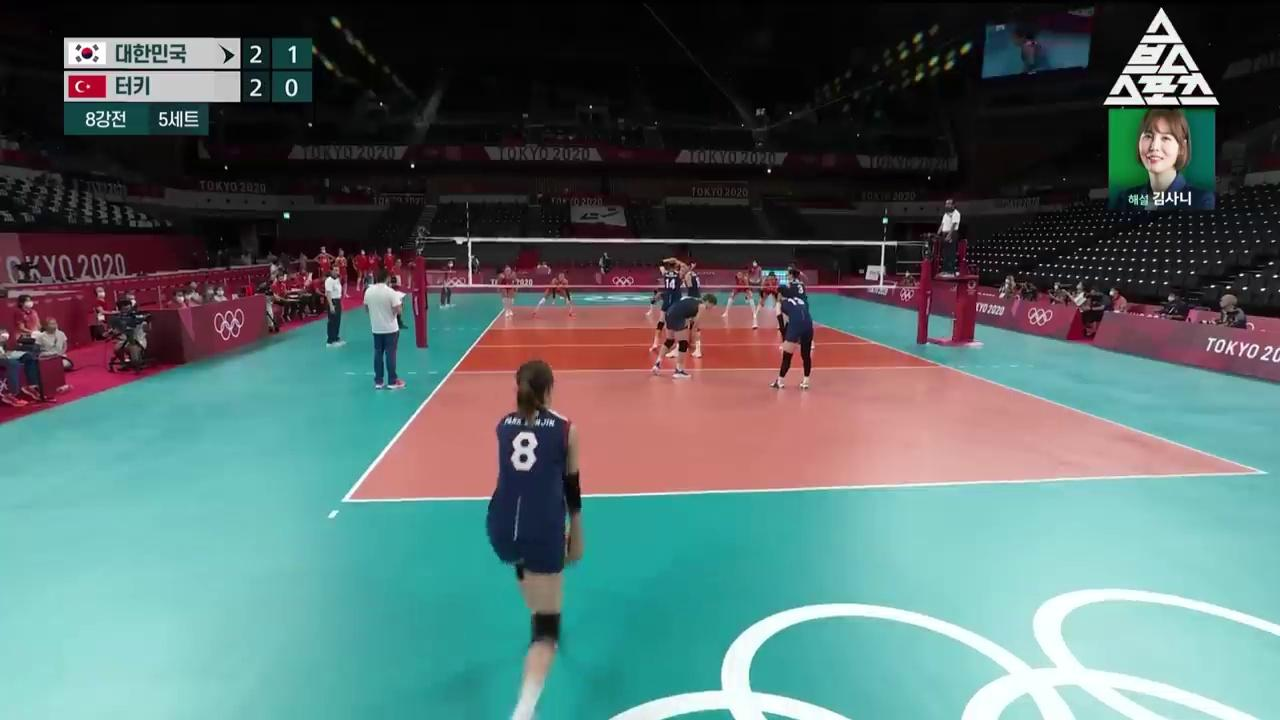player: (487, 361, 583, 720), (652, 294, 716, 378), (769, 286, 814, 389), (649, 258, 689, 351), (666, 262, 702, 357), (533, 272, 575, 319), (753, 272, 784, 329), (722, 271, 756, 317), (498, 265, 517, 318)
referee: (938, 199, 961, 276), (325, 266, 346, 348)
